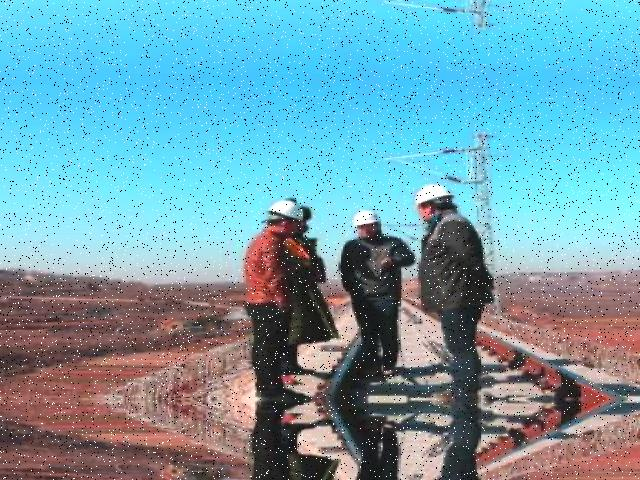Helmet: (260, 196, 307, 231), (409, 182, 456, 212), (347, 205, 383, 231)
